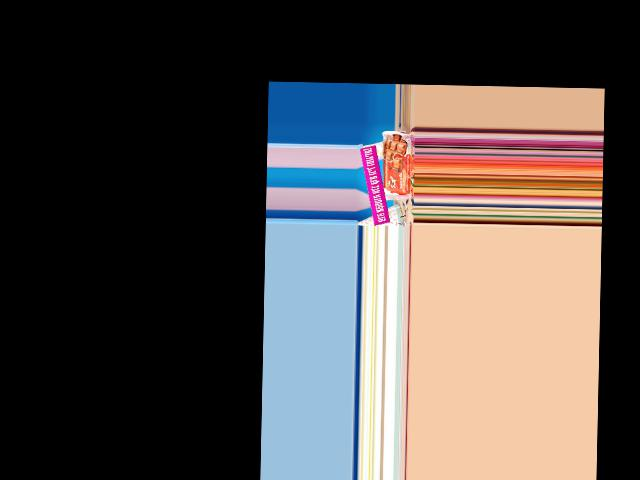chocolate: (380, 129, 413, 202)
